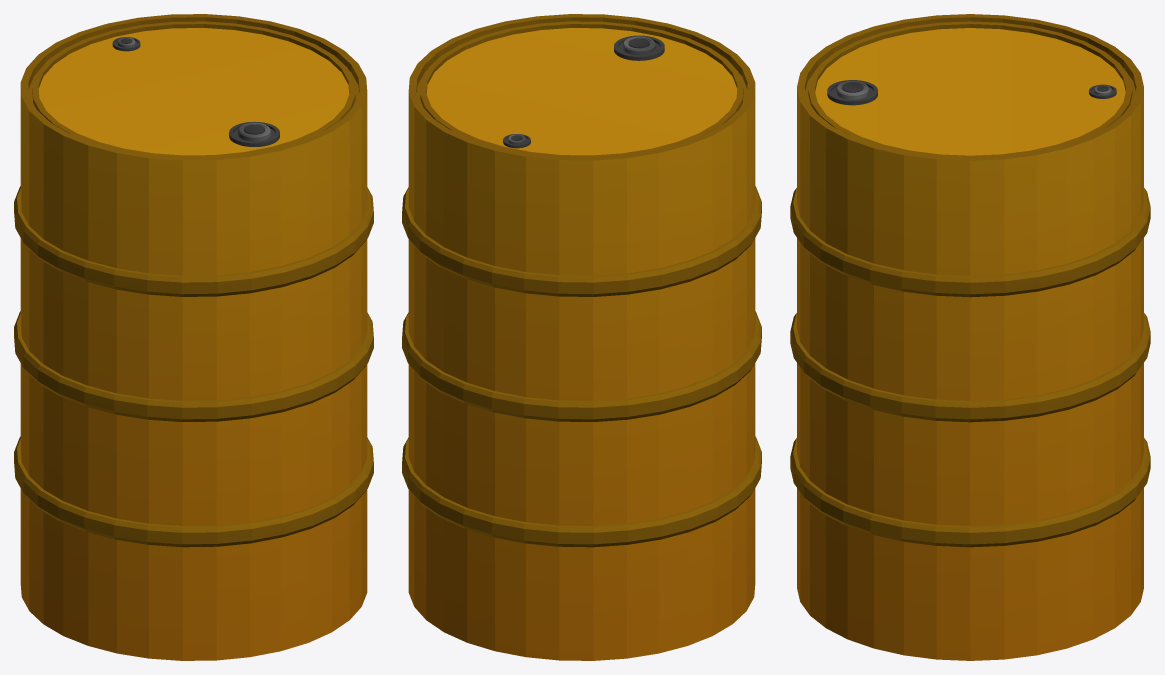
The model's file is Industrial Barrel Yellow.fbx.
3 views of the same model, side by side, from view 1: azimuth 30°, elevation 25°; view 2: azimuth 150°, elevation 25°; view 3: azimuth 270°, elevation 25° (orthographic).
Visible parts, largest first — view 1: Industrial Barrel #2; view 2: Industrial Barrel #2; view 3: Industrial Barrel #2.
Boxes of the visible parts, x1,y1,x2,y2 form: Industrial Barrel #2: [14, 14, 373, 660]; Industrial Barrel #2: [402, 14, 761, 660]; Industrial Barrel #2: [790, 14, 1150, 660].
Size of the model in its own units: 429 by 280 by 280.
Materials: 1 (1 with a texture image).
